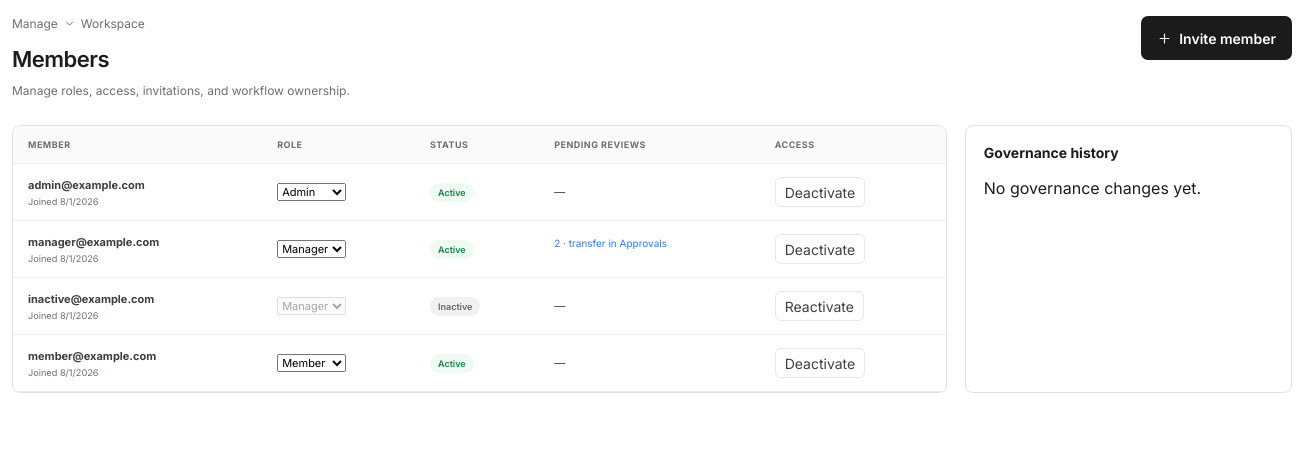
Scenario: member governance › shows pending ownership and explains why deactivation is blocked
Expected: the button "2 · transfer in Approvals" is shown, [554,237,667,249]
Click the button "Deactivate" in the row of "manager@example.com": (820, 249) [775,234,865,264]
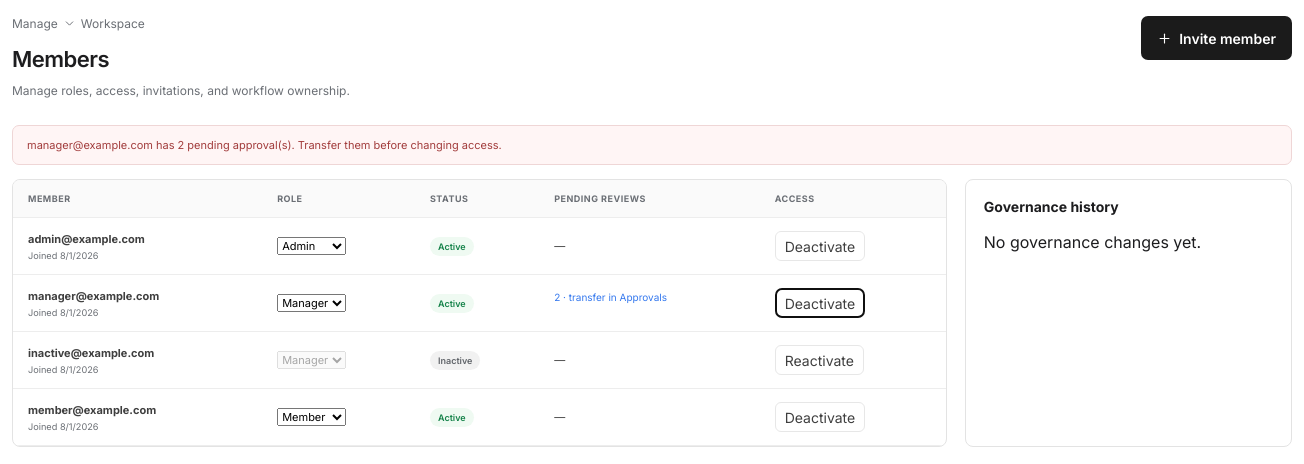
Expected: the text "manager@example.com has 2 pending approval(s). Transfer them before changing access." is shown, [27,138,502,152]
